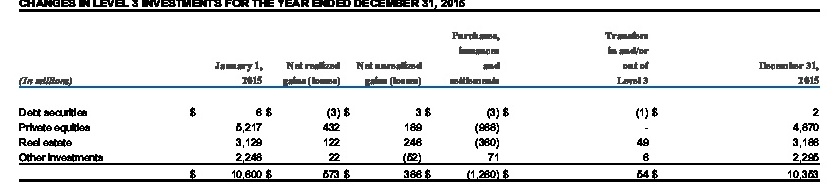table: (0, 0, 840, 195)
